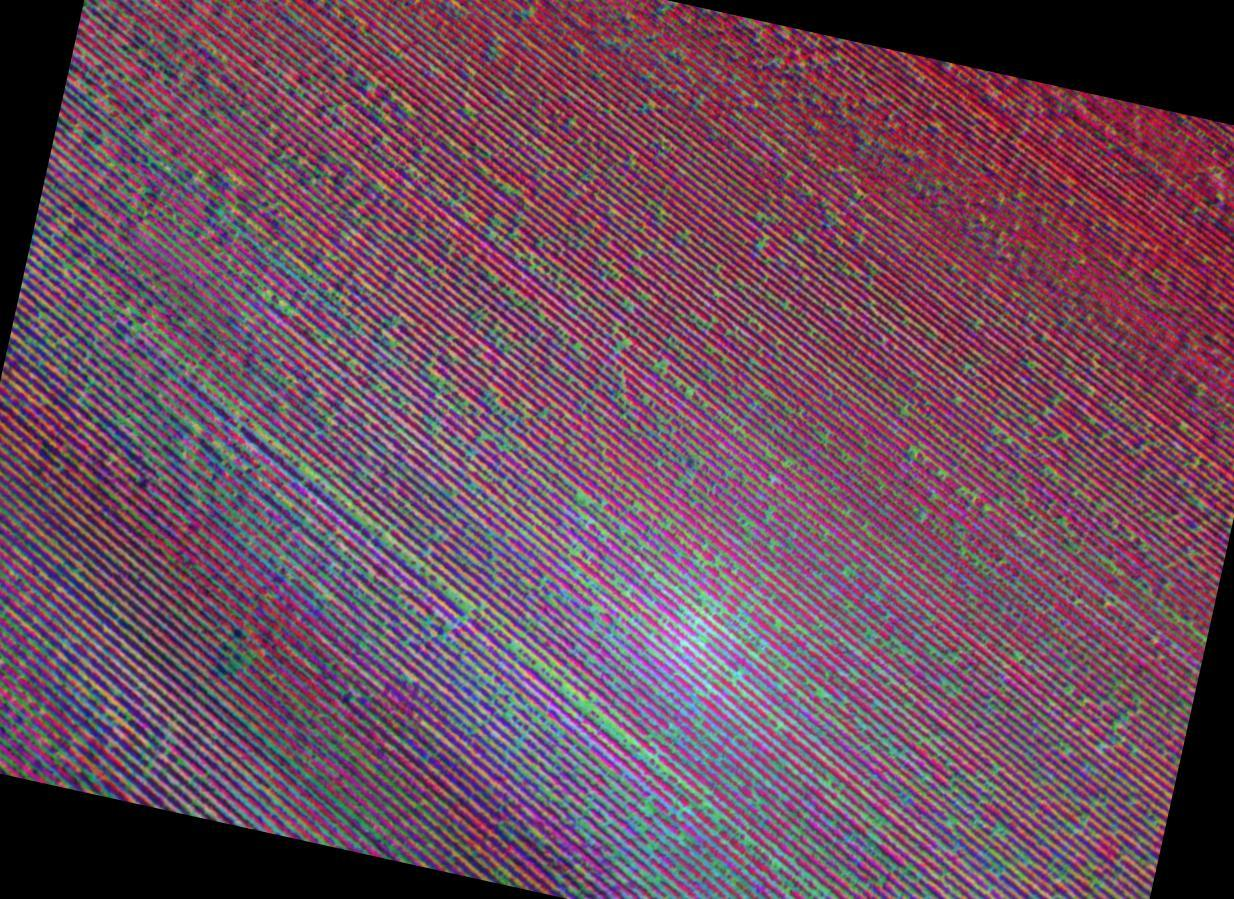dc: (631, 550, 754, 708), (316, 540, 449, 666), (471, 695, 581, 802), (188, 430, 276, 545), (73, 310, 157, 402)
